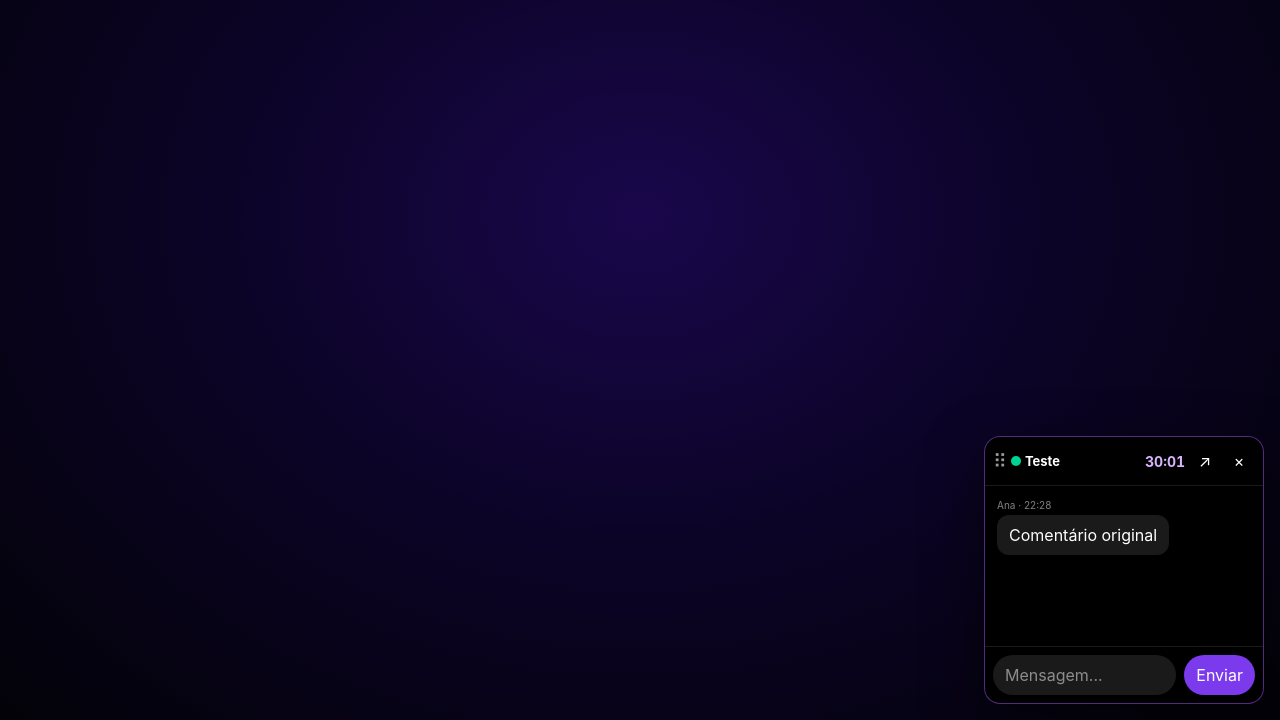
Test: Mini Cloud leave › mostra a moderação ao host e o aviso em tempo real (mobile: true)
Click the button with aria-label "Mostrar opções da mensagem" at [1083, 535], box [997, 515, 1169, 555]
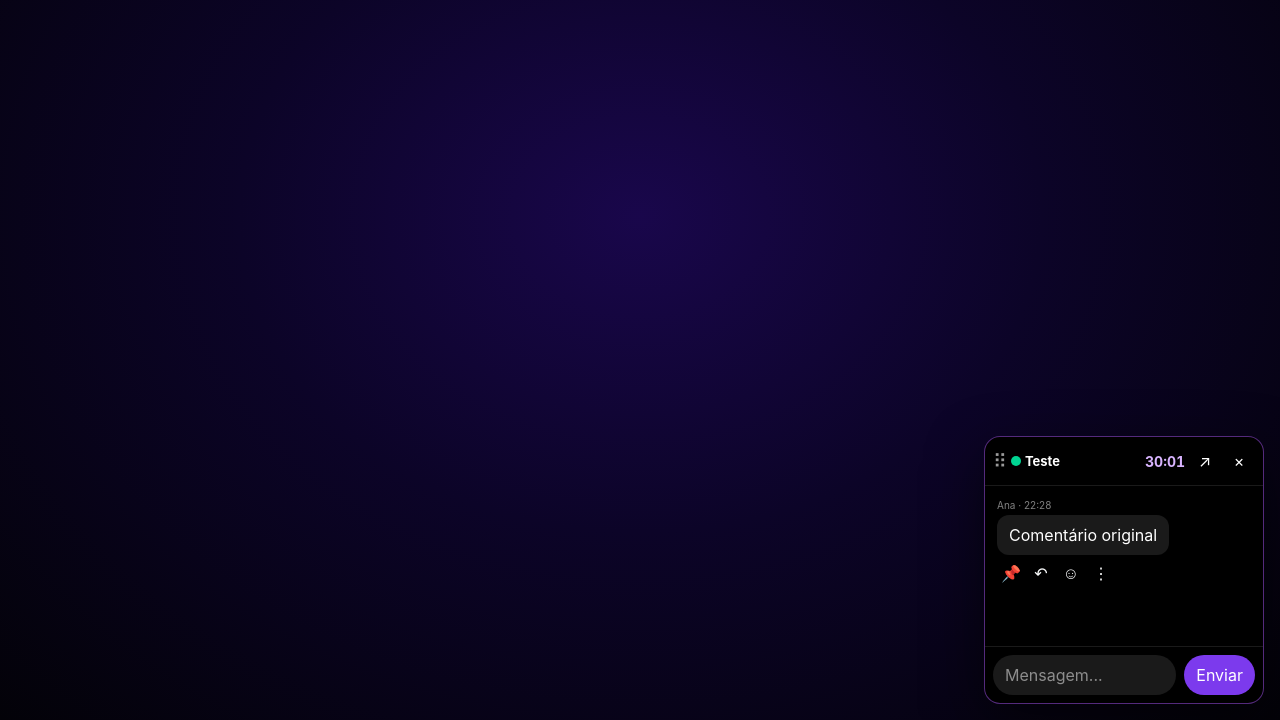
Click the button named "Mais opções da mensagem" at [1101, 573], box [1087, 559, 1115, 587]
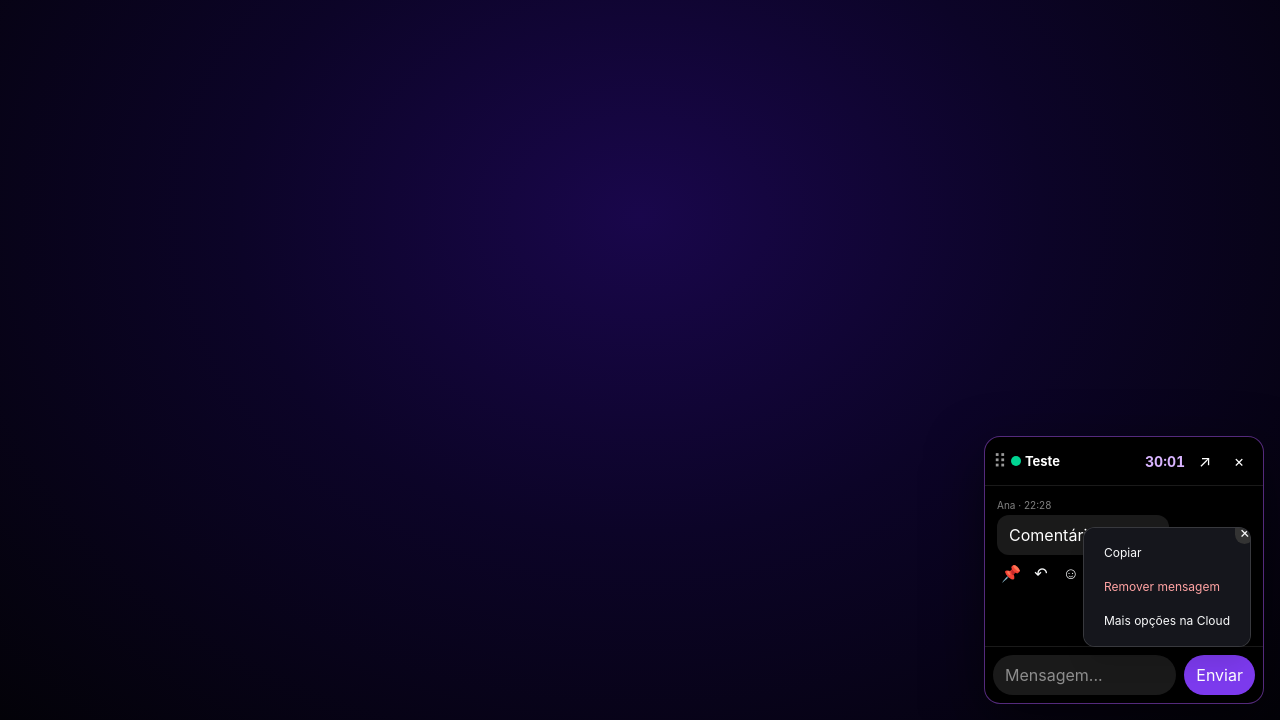
Click the button "Remover mensagem" at [1167, 587], box [1092, 570, 1242, 604]
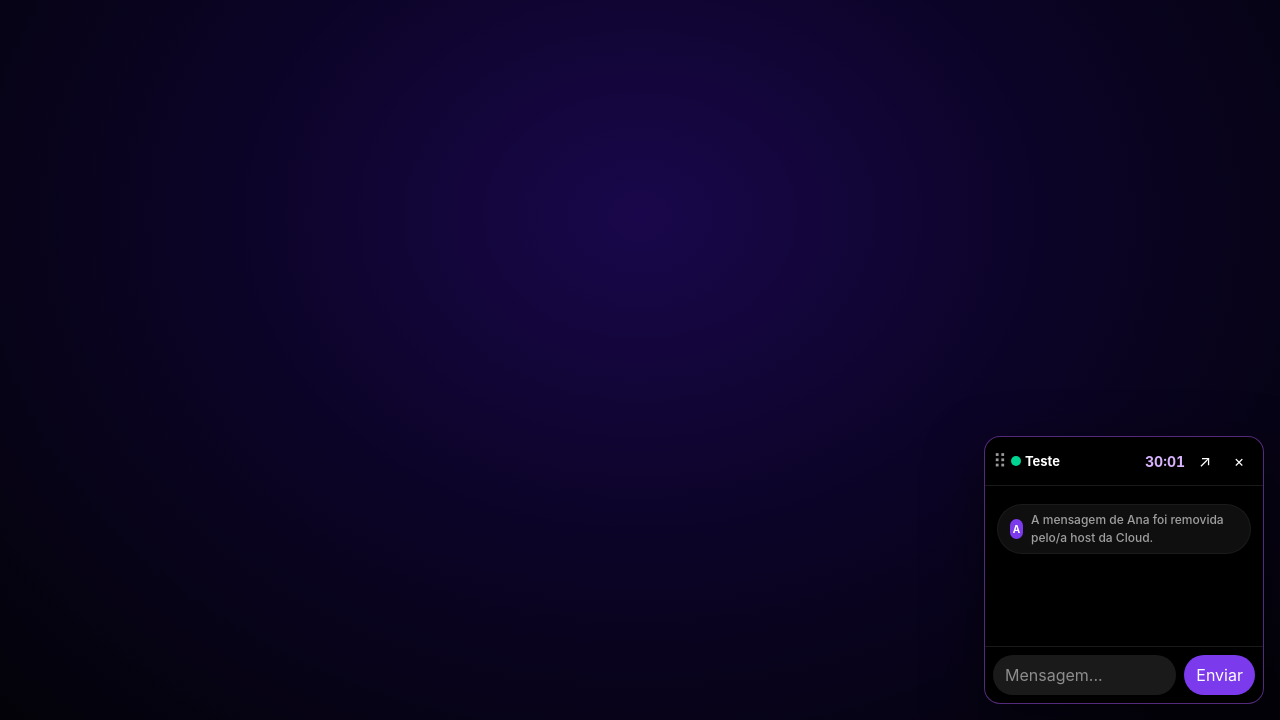
Now the text "A mensagem de Ana foi removida pelo/a host da Cloud." is shown, box [1031, 511, 1238, 547]
Now the button "Comentário original" is gone
